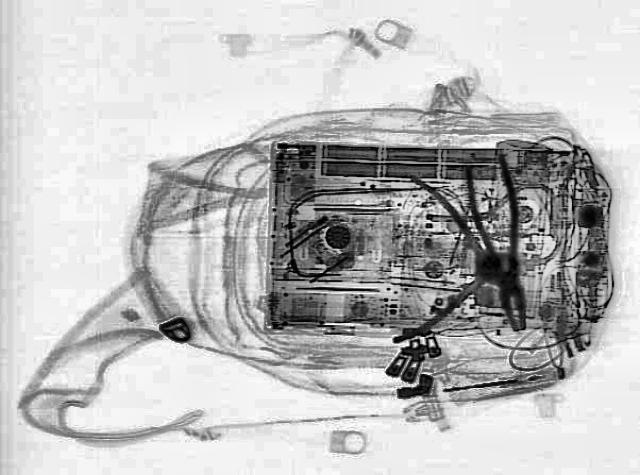Pliers: (386, 172, 506, 341), (458, 153, 546, 331)
